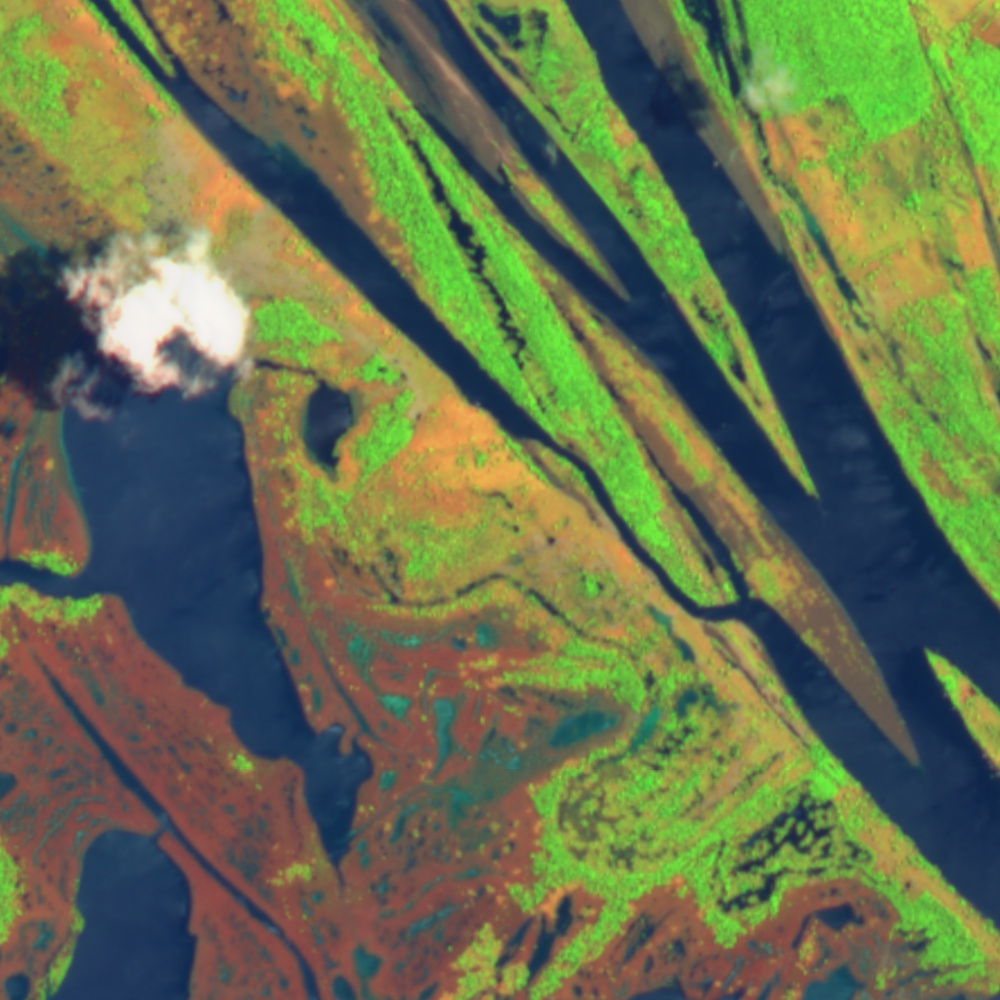legal: (8, 1, 689, 506), (131, 642, 1000, 1000), (627, 1, 1000, 549), (224, 363, 608, 849), (1, 142, 150, 1000)
